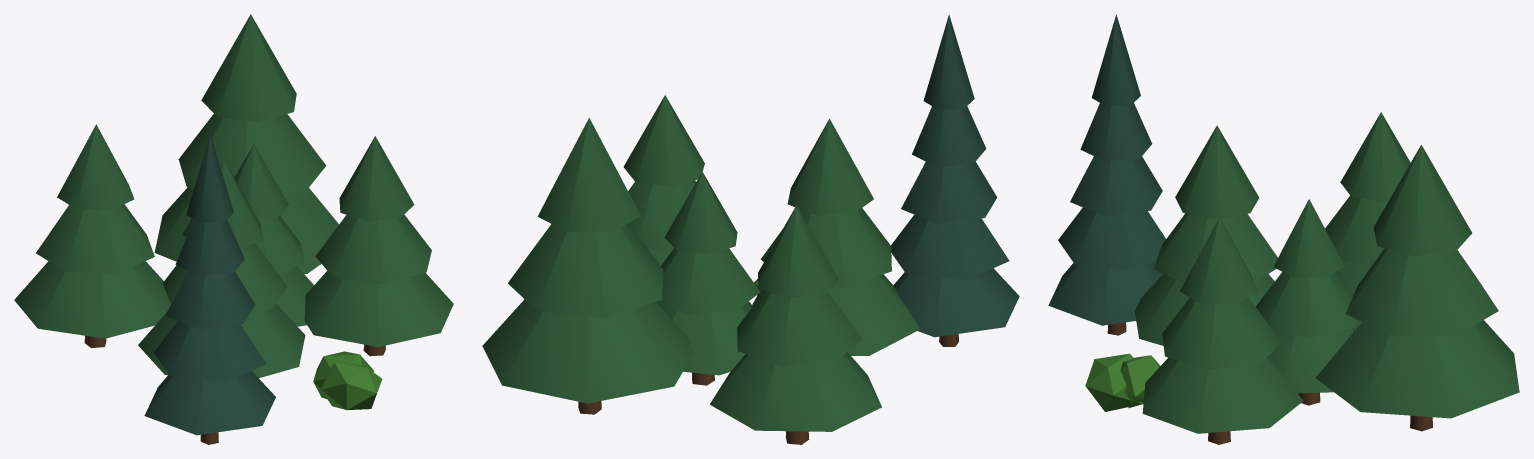
File: sawyer_pine_stand_d.glb
3 renders of one model, left to right at view 1: azimuth 30°, elevation 25°; view 2: azimuth 150°, elevation 25°; view 3: azimuth 270°, elevation 25°, orthographic. The views are drawn at different scales.
Visible parts, largest first — view 1: pine_3_tier0, pine_1_tier0, pine_0_tier1, spruce_6_tier0, pine_1_tier1, pine_3_tier1, pine_0_tier2, spruce_6_tier1, pine_0_tier0, pine_2_tier0, spruce_6_tier2, pine_1_tier2 (+10 smaller); view 2: pine_0_tier0, pine_0_tier1, pine_3_tier0, pine_3_tier1, pine_0_tier2, spruce_6_tier0, spruce_6_tier1, pine_5_tier1, pine_2_tier2, pine_2_tier1, pine_3_tier2, pine_2_tier0 (+7 smaller); view 3: pine_0_tier0, pine_0_tier1, pine_1_tier0, pine_1_tier1, pine_0_tier2, spruce_6_tier1, pine_5_tier1, spruce_6_tier0, pine_2_tier2, pine_2_tier1, spruce_6_tier2, pine_1_tier2 (+10 smaller).
Boxes of the visible parts, box(x1,y1,x2,y2) form: pine_3_tier0: box(14, 261, 170, 338); pine_1_tier0: box(304, 271, 453, 346); pine_0_tier1: box(178, 114, 326, 195); spruce_6_tier0: box(144, 371, 275, 435); pine_1_tier1: box(315, 214, 431, 284); pine_3_tier1: box(36, 204, 154, 273); pine_0_tier2: box(201, 14, 296, 122); spruce_6_tier1: box(154, 321, 266, 381); pine_0_tier0: box(154, 187, 338, 273); pine_2_tier0: box(138, 303, 305, 377); spruce_6_tier2: box(165, 271, 254, 329); pine_1_tier2: box(339, 136, 414, 221); pine_0_tier0: box(482, 299, 693, 403); pine_0_tier1: box(508, 223, 663, 317); pine_3_tier0: box(710, 352, 881, 431); pine_3_tier1: box(737, 291, 861, 365); pine_0_tier2: box(538, 118, 640, 231); spruce_6_tier0: box(893, 268, 1019, 337); spruce_6_tier1: box(891, 214, 1009, 279); pine_5_tier1: box(656, 248, 760, 314); pine_2_tier2: box(787, 118, 873, 215); pine_2_tier1: box(760, 208, 891, 287); pine_3_tier2: box(758, 205, 838, 297); pine_2_tier0: box(752, 274, 919, 355); pine_0_tier0: box(1316, 320, 1519, 418); pine_0_tier1: box(1346, 248, 1498, 335); pine_1_tier0: box(1142, 357, 1303, 433); pine_1_tier1: box(1162, 297, 1281, 369); pine_0_tier2: box(1373, 145, 1471, 256); spruce_6_tier1: box(1058, 207, 1165, 270); pine_5_tier1: box(1255, 272, 1357, 337); spruce_6_tier0: box(1048, 260, 1162, 325); pine_2_tier2: box(1175, 125, 1259, 219); pine_2_tier1: box(1154, 213, 1277, 282); spruce_6_tier2: box(1070, 156, 1162, 216); pine_1_tier2: box(1180, 217, 1258, 303).
Bounding box in the file's own units: 4.03 × 3.48 × 4.65.
